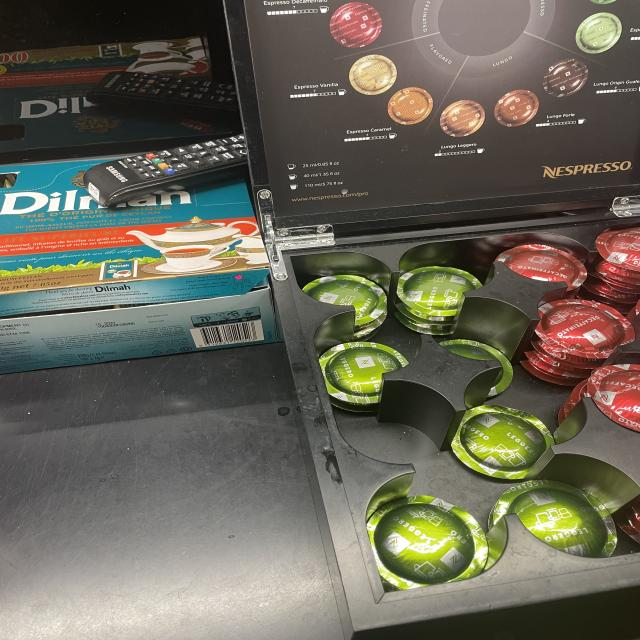remote: (80, 132, 264, 208)
